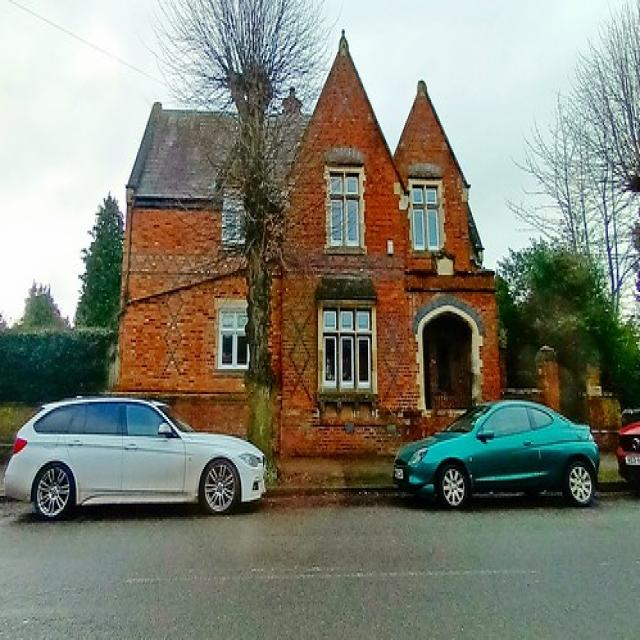building: (110, 26, 504, 493)
